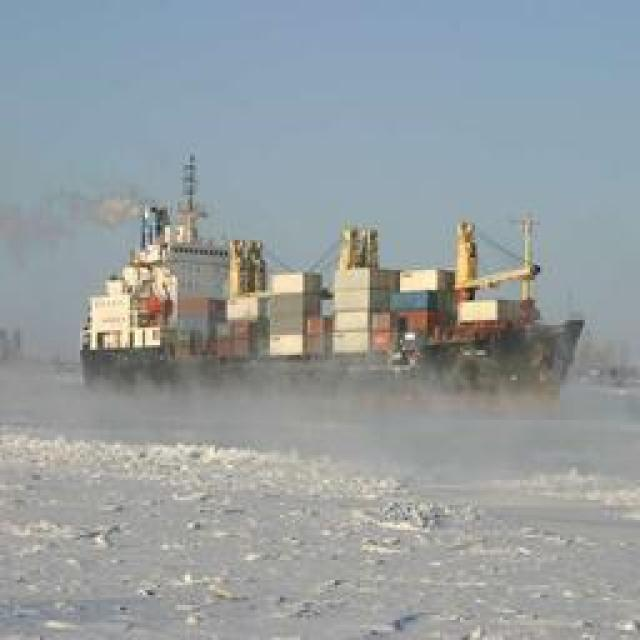CIV_Ship: (75, 172, 588, 386)
